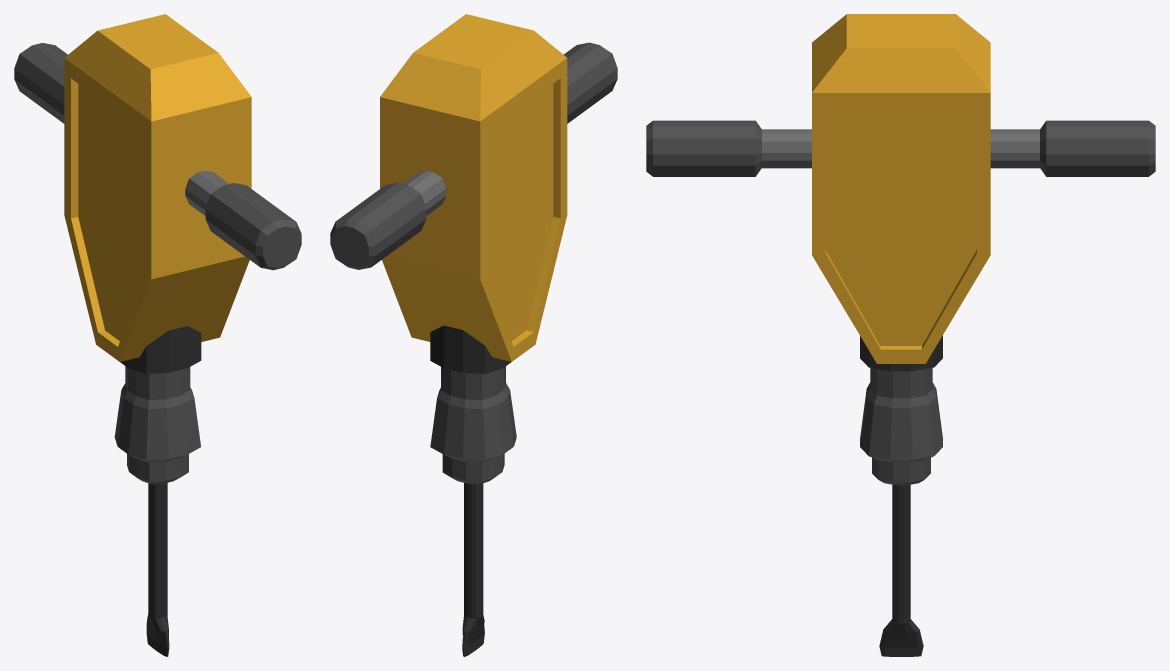
3 renders of one model, left to right at view 1: azimuth 30°, elevation 25°; view 2: azimuth 150°, elevation 25°; view 3: azimuth 270°, elevation 25°, orthographic. The views are drawn at different scales.
Parts seen in each view (by area): view 1: F-38; view 2: F-38; view 3: F-38.
Part boxes in pixels (x1,y1,x2,y2): F-38: (14,14,301,656); F-38: (330,14,617,656); F-38: (646,14,1155,656).
Bounding box in the file's own units: 37.04 × 215 × 159.
